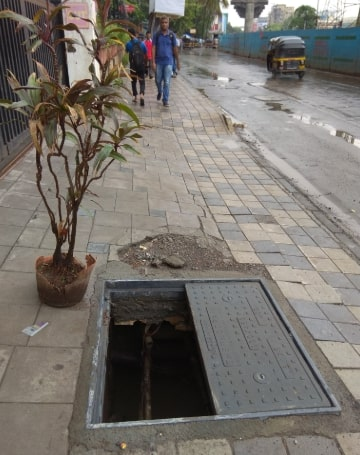open_manhole: (90, 273, 214, 430)
